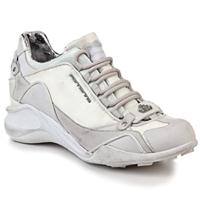shoe: (5, 30, 198, 168)
